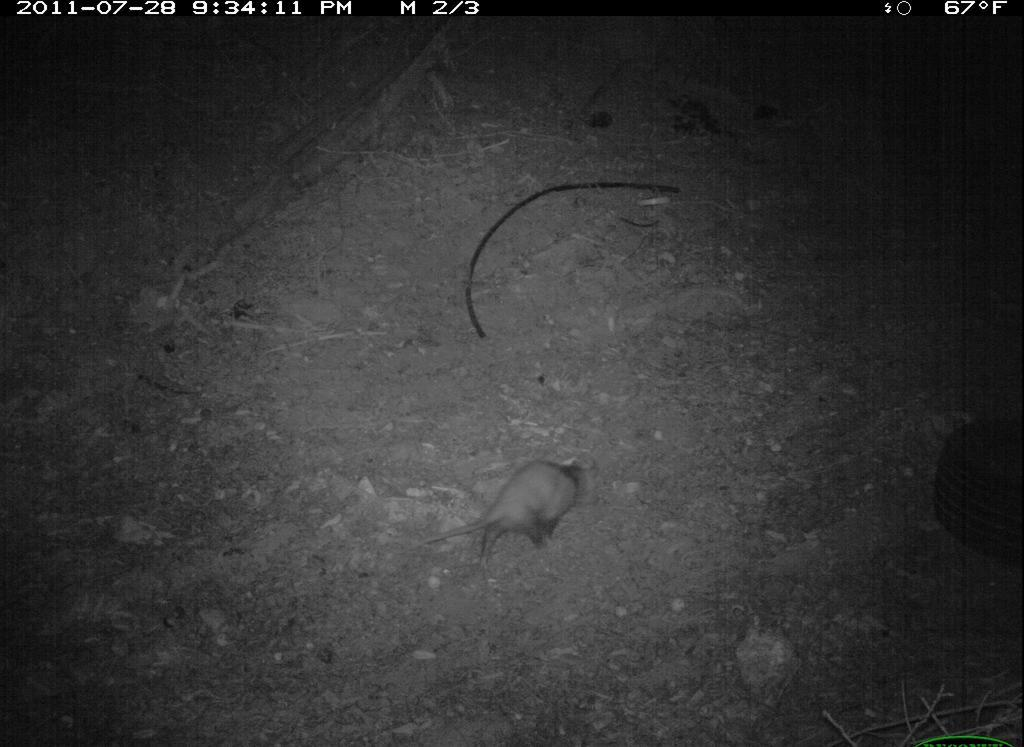opossum: (399, 456, 601, 576)
